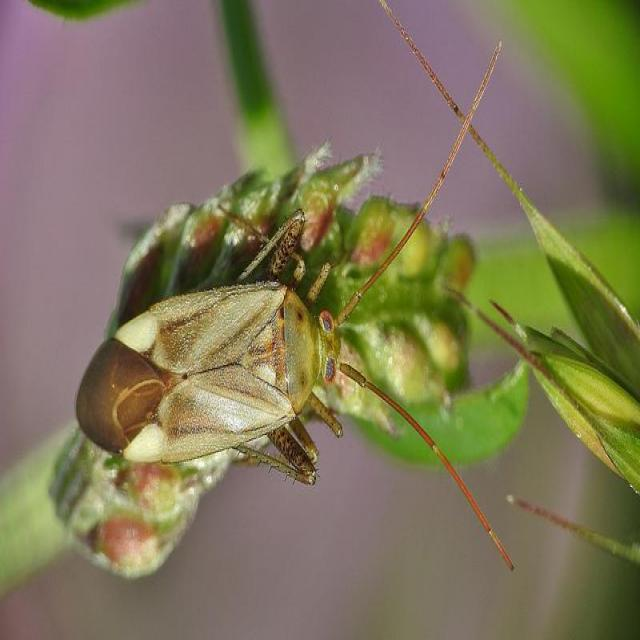Miridae-Adult-: (66, 67, 503, 519)
